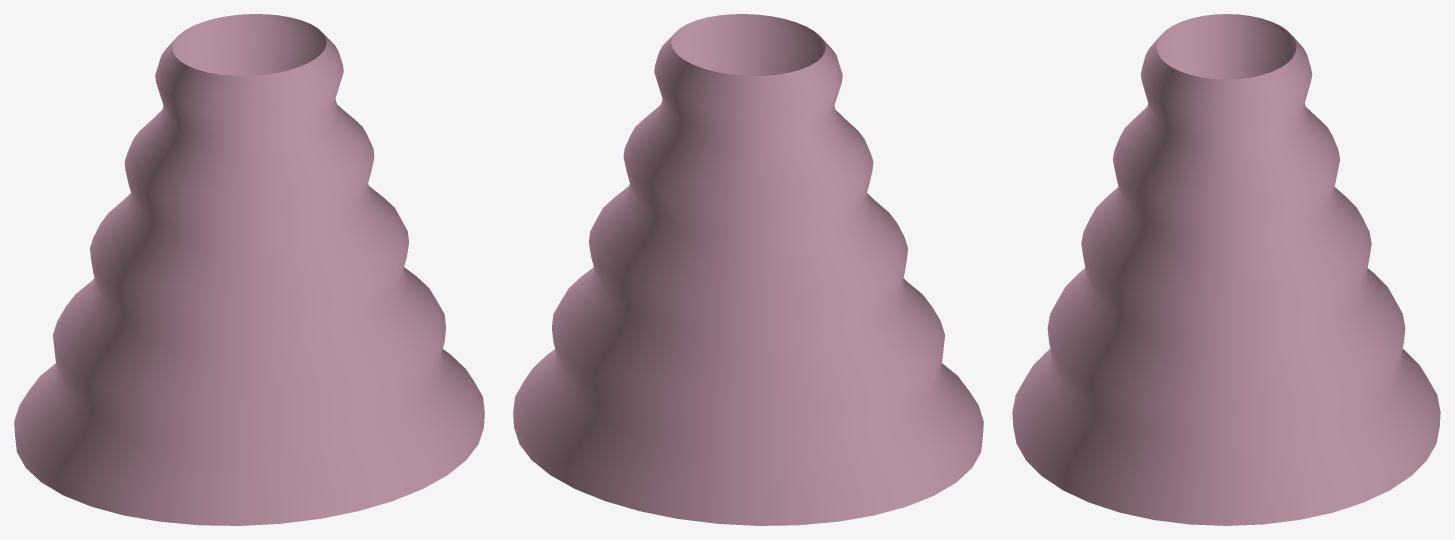
The model's file is yumik_maid_dress.glb.
3 renders of one model, left to right at view 1: azimuth 30°, elevation 25°; view 2: azimuth 150°, elevation 25°; view 3: azimuth 270°, elevation 25°, orthographic.
Parts seen in each view (by area): view 1: MaidPinkSilkDress; view 2: MaidPinkSilkDress; view 3: MaidPinkSilkDress.
Boxes of the visible parts, <box> form: MaidPinkSilkDress: <box>14,14,484,525</box>; MaidPinkSilkDress: <box>513,14,983,525</box>; MaidPinkSilkDress: <box>1012,14,1440,525</box>.
Bounding box in the file's own units: 1.15 × 1.06 × 1.04.
